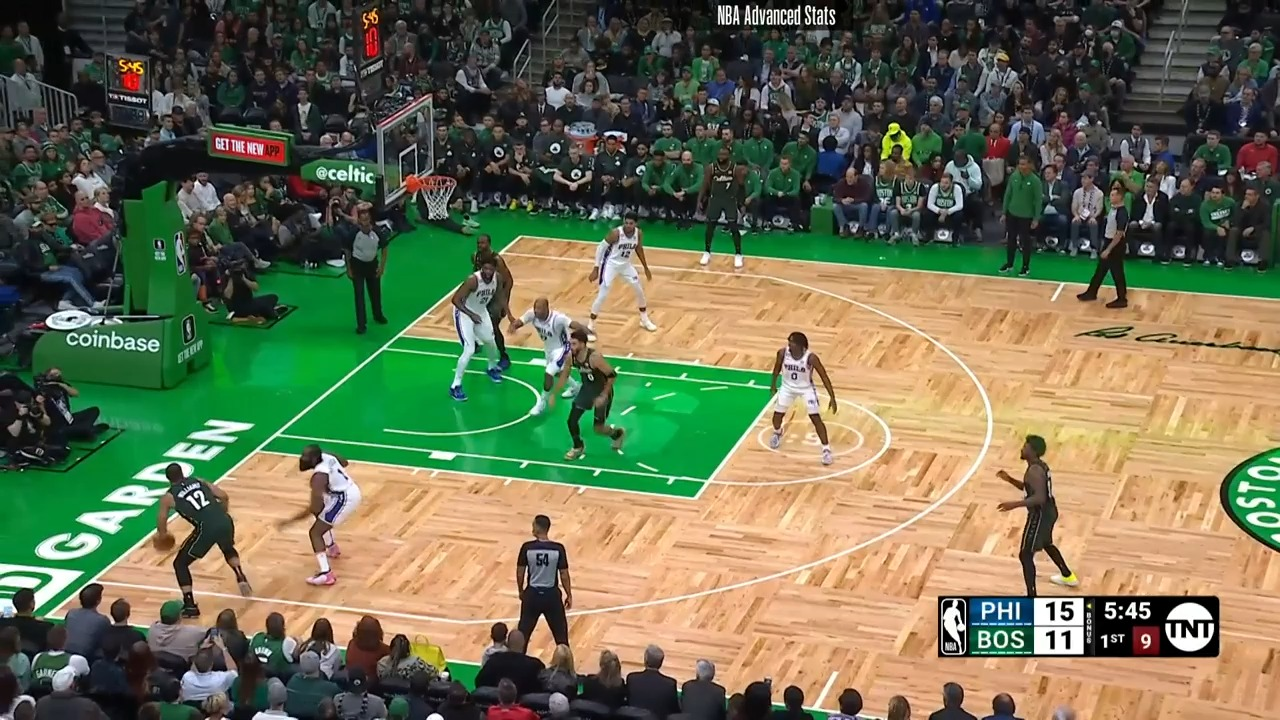net: (400, 172, 466, 224)
player: (158, 459, 262, 618), (265, 439, 365, 590), (996, 434, 1075, 598), (434, 246, 511, 400), (573, 211, 658, 339), (768, 329, 843, 462), (563, 324, 625, 463), (510, 295, 596, 389), (696, 141, 751, 270), (467, 232, 518, 368)
referee: (510, 510, 580, 656), (1082, 180, 1136, 309), (341, 209, 390, 338)
